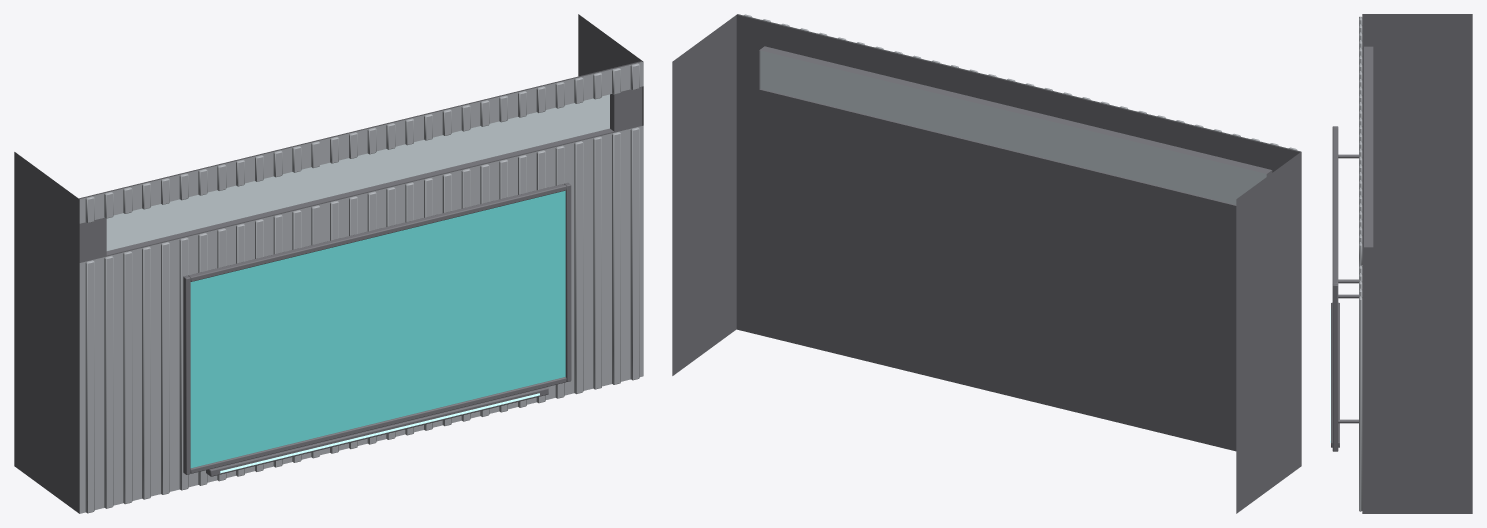
File: retro_upper_6c.glb
3 renders of one model, left to right at view 1: azimuth 30°, elevation 25°; view 2: azimuth 150°, elevation 25°; view 3: azimuth 270°, elevation 25°, orthographic. The views are drawn at different scales.
Parts seen in each view (by area): view 1: retro_upper_6c; view 2: retro_upper_6c; view 3: retro_upper_6c.
Part boxes in pixels (box(x1,y1,x2,y2)): retro_upper_6c: box(14, 14, 643, 513); retro_upper_6c: box(672, 14, 1301, 513); retro_upper_6c: box(1330, 14, 1472, 513).
Size of the model in its own units: 6 by 3.2 by 1.55.
